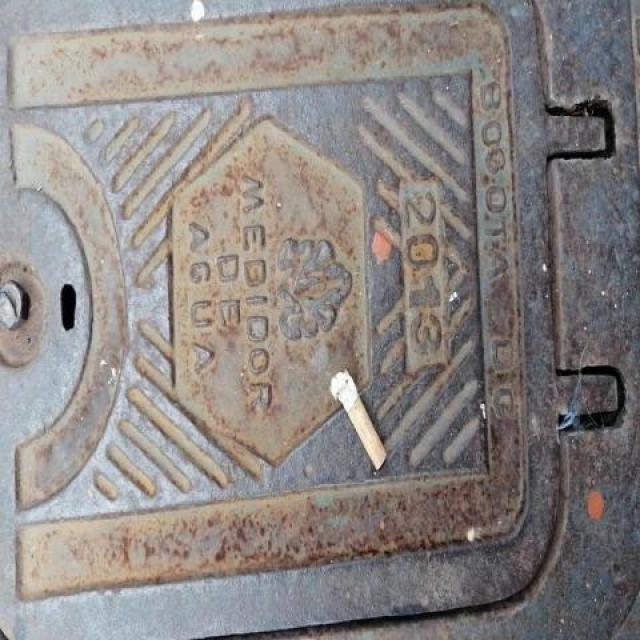non-organic waste: (324, 365, 392, 475)
